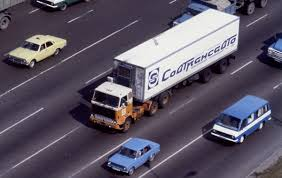Bus: (211, 95, 271, 142)
Car: (107, 137, 160, 175), (8, 35, 67, 68)
Truck: (89, 9, 239, 130)
